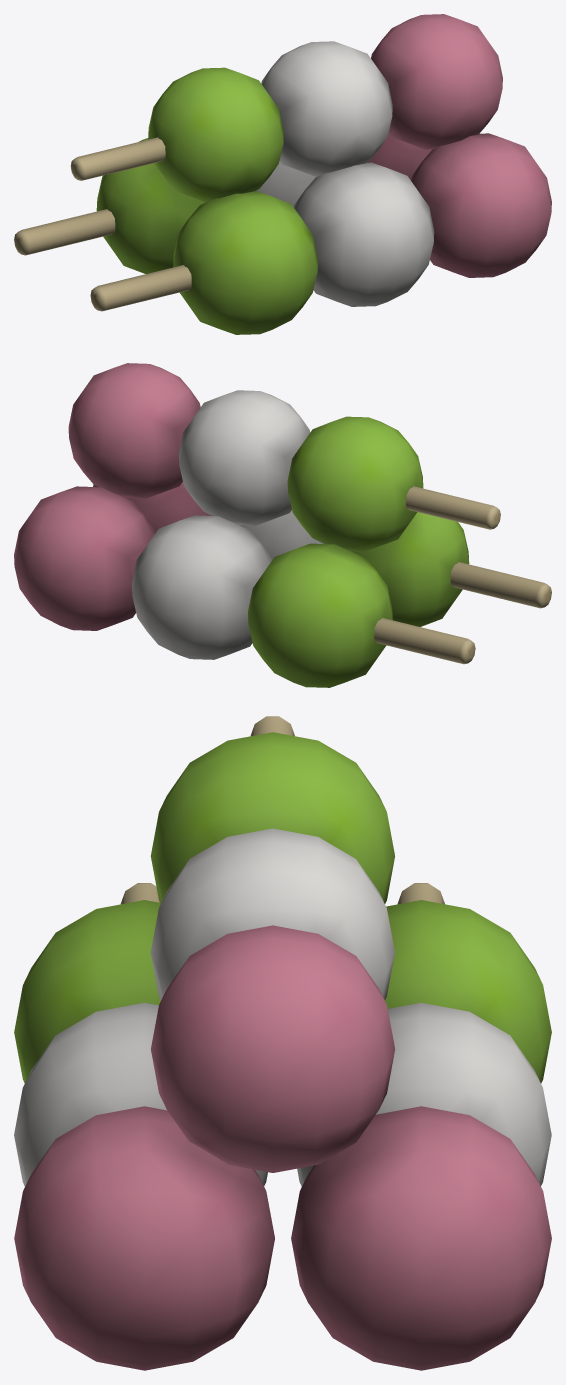
The model's file is prop_dango.glb.
The picture shows the model from 3 angles, top to bottom: view 1: azimuth 30°, elevation 25°; view 2: azimuth 150°, elevation 25°; view 3: azimuth 270°, elevation 25°; orthographic projection. The views are drawn at different scales.
Parts seen in each view (by area): view 1: refined; view 2: refined; view 3: refined.
Boxes of the visible parts, x1=… form: refined: x1=14, y1=14, x2=551, y2=334; refined: x1=14, y1=363, x2=551, y2=687; refined: x1=14, y1=716, x2=551, y2=1370.
Size of the model in its own units: 0.9144 by 0.4429 by 0.5256.
